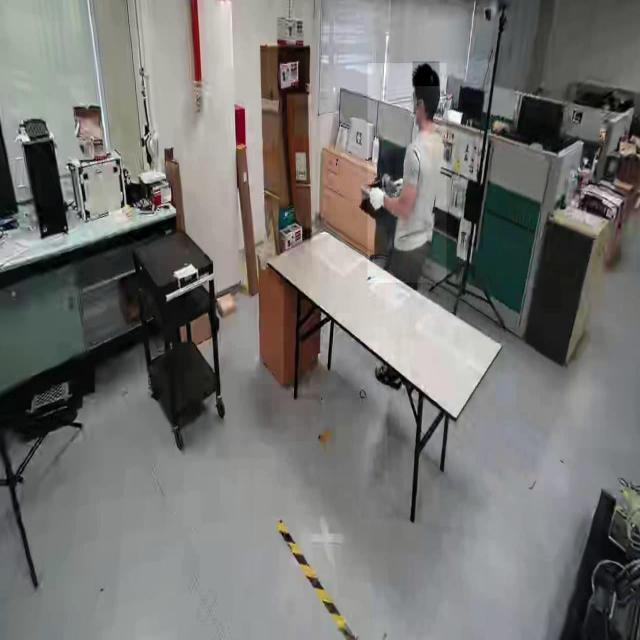gloves: (368, 175, 386, 218)
